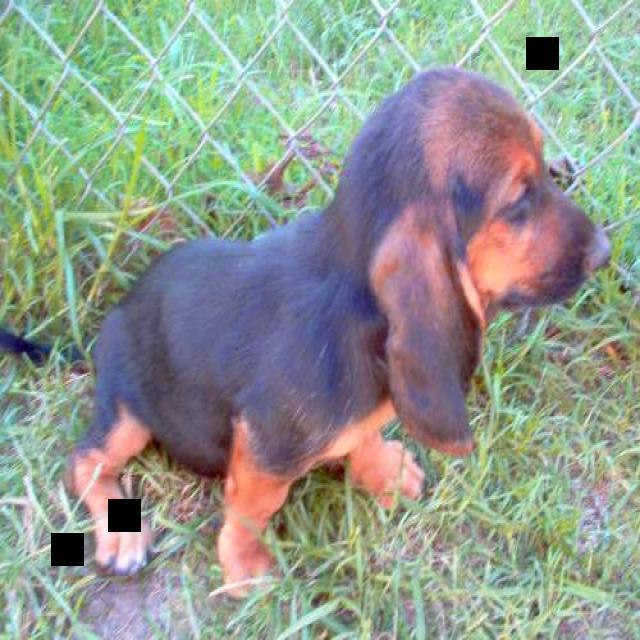puppy-dog: (65, 63, 612, 602)
